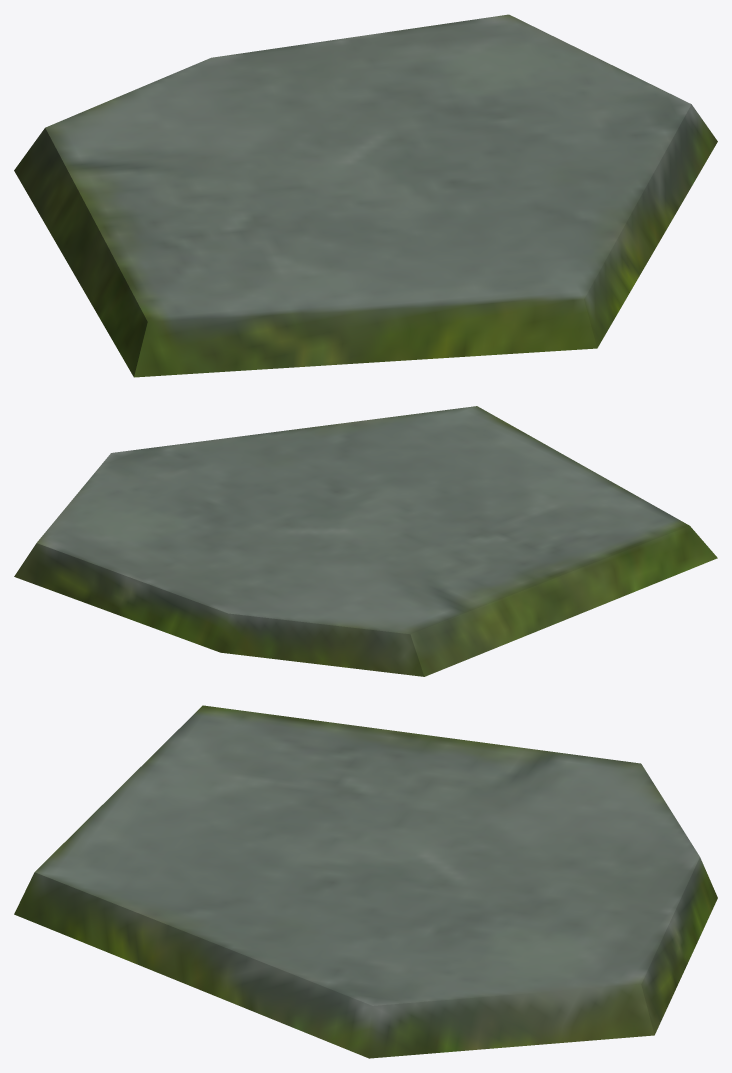
File: qiang10_01.FBX
The picture shows the model from 3 angles, top to bottom: view 1: azimuth 30°, elevation 25°; view 2: azimuth 150°, elevation 25°; view 3: azimuth 270°, elevation 25°; orthographic projection. The views are drawn at different scales.
Parts seen in each view (by area): view 1: qiang10_01; view 2: qiang10_01; view 3: qiang10_01.
Part boxes in pixels (box(x1,y1,x2,y2)): qiang10_01: box(14, 14, 717, 377); qiang10_01: box(14, 406, 717, 676); qiang10_01: box(14, 705, 717, 1058).
Size of the model in its own units: 111 by 6.58 by 102.
1 material, 1 textured.
